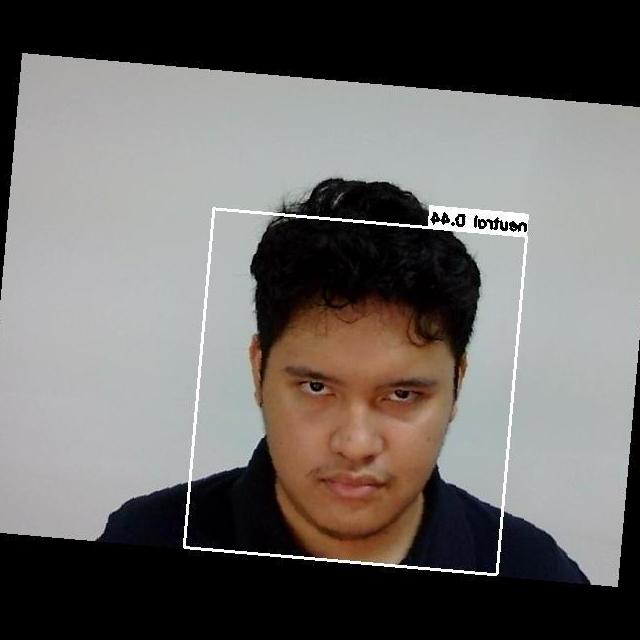Fear: (265, 335, 454, 524)
